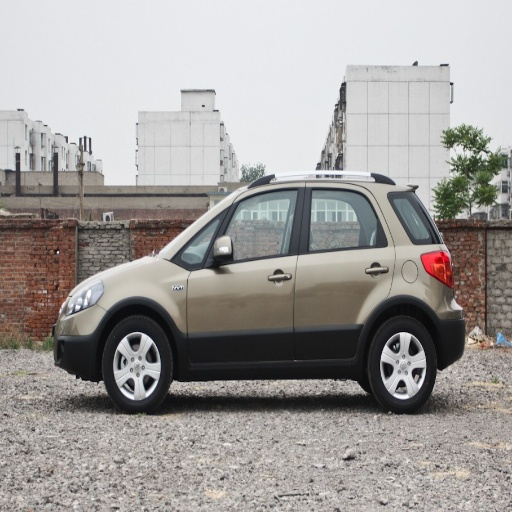back_glass: (390, 192, 437, 243)
back_left_door: (294, 183, 395, 359)
front_left_door: (189, 184, 304, 367)
